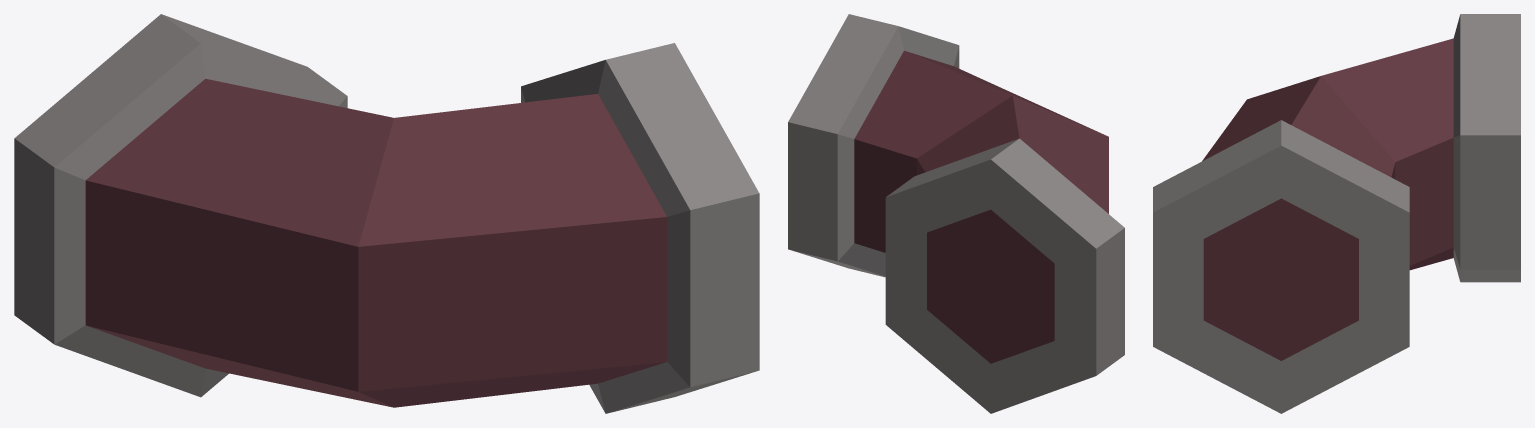
The model's file is scifi-scifi-pipe-corridor-end.glb.
3 views of the same model, side by side, from view 1: azimuth 30°, elevation 25°; view 2: azimuth 150°, elevation 25°; view 3: azimuth 270°, elevation 25° (orthographic). The views are drawn at different scales.
Visible parts, largest first — view 1: scifi-pipe-corridor-end; view 2: scifi-pipe-corridor-end; view 3: scifi-pipe-corridor-end.
Part boxes in pixels (left/top/right/bottom): scifi-pipe-corridor-end: left=14, top=14, right=759, bottom=413; scifi-pipe-corridor-end: left=788, top=14, right=1124, bottom=413; scifi-pipe-corridor-end: left=1153, top=14, right=1520, bottom=413.
Bounding box in the file's own units: 0.653 × 0.44 × 0.5463.
